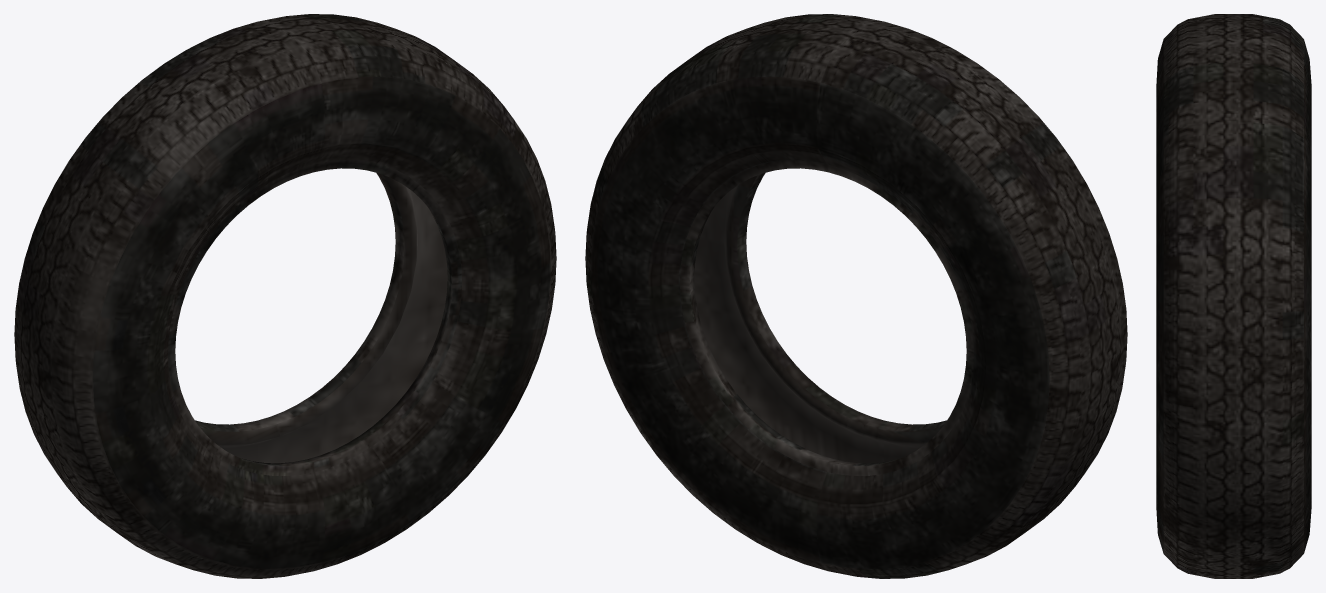
Rendered from isl_tyre.glb.
The picture shows the model from 3 angles, left to right: view 1: azimuth 30°, elevation 25°; view 2: azimuth 150°, elevation 25°; view 3: azimuth 270°, elevation 25°; orthographic projection. The views are drawn at different scales.
Parts seen in each view (by area): view 1: old_tyre; view 2: old_tyre; view 3: old_tyre.
Boxes of the visible parts, x1,y1,x2,y2 form: old_tyre: (14, 14, 556, 578); old_tyre: (585, 14, 1127, 578); old_tyre: (1156, 14, 1311, 578).
Size of the model in its own units: 0.6 by 0.6 by 0.165.
Materials: 1 (1 with a texture image).
